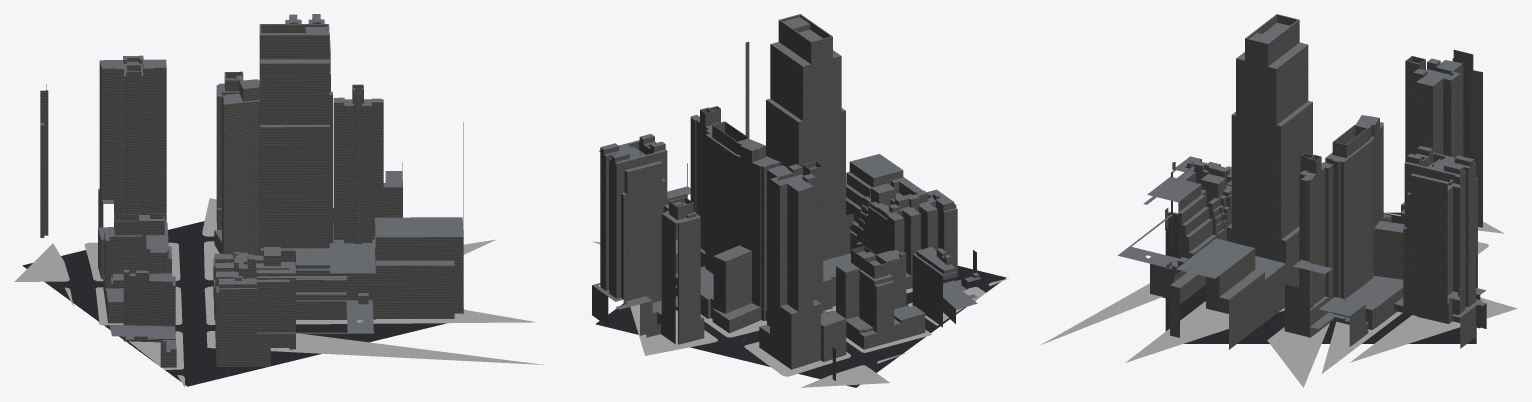
The picture shows the model from 3 angles, left to right: view 1: azimuth 30°, elevation 25°; view 2: azimuth 150°, elevation 25°; view 3: azimuth 270°, elevation 25°; orthographic projection. The views are drawn at different scales.
Visible parts, largest first — view 1: t4_3, detail; view 2: t4_3, detail; view 3: t4_3, detail.
Part boxes in pixels (x1,y1,x2,y2): t4_3: (22,14,464,386); detail: (14,198,543,387); t4_3: (592,14,1006,387); detail: (592,241,1008,387); t4_3: (1118,14,1486,349); detail: (1041,211,1517,387).
Bounding box in the file's own units: 354 × 231 × 385.
Materials: 4 (2 with a texture image).
